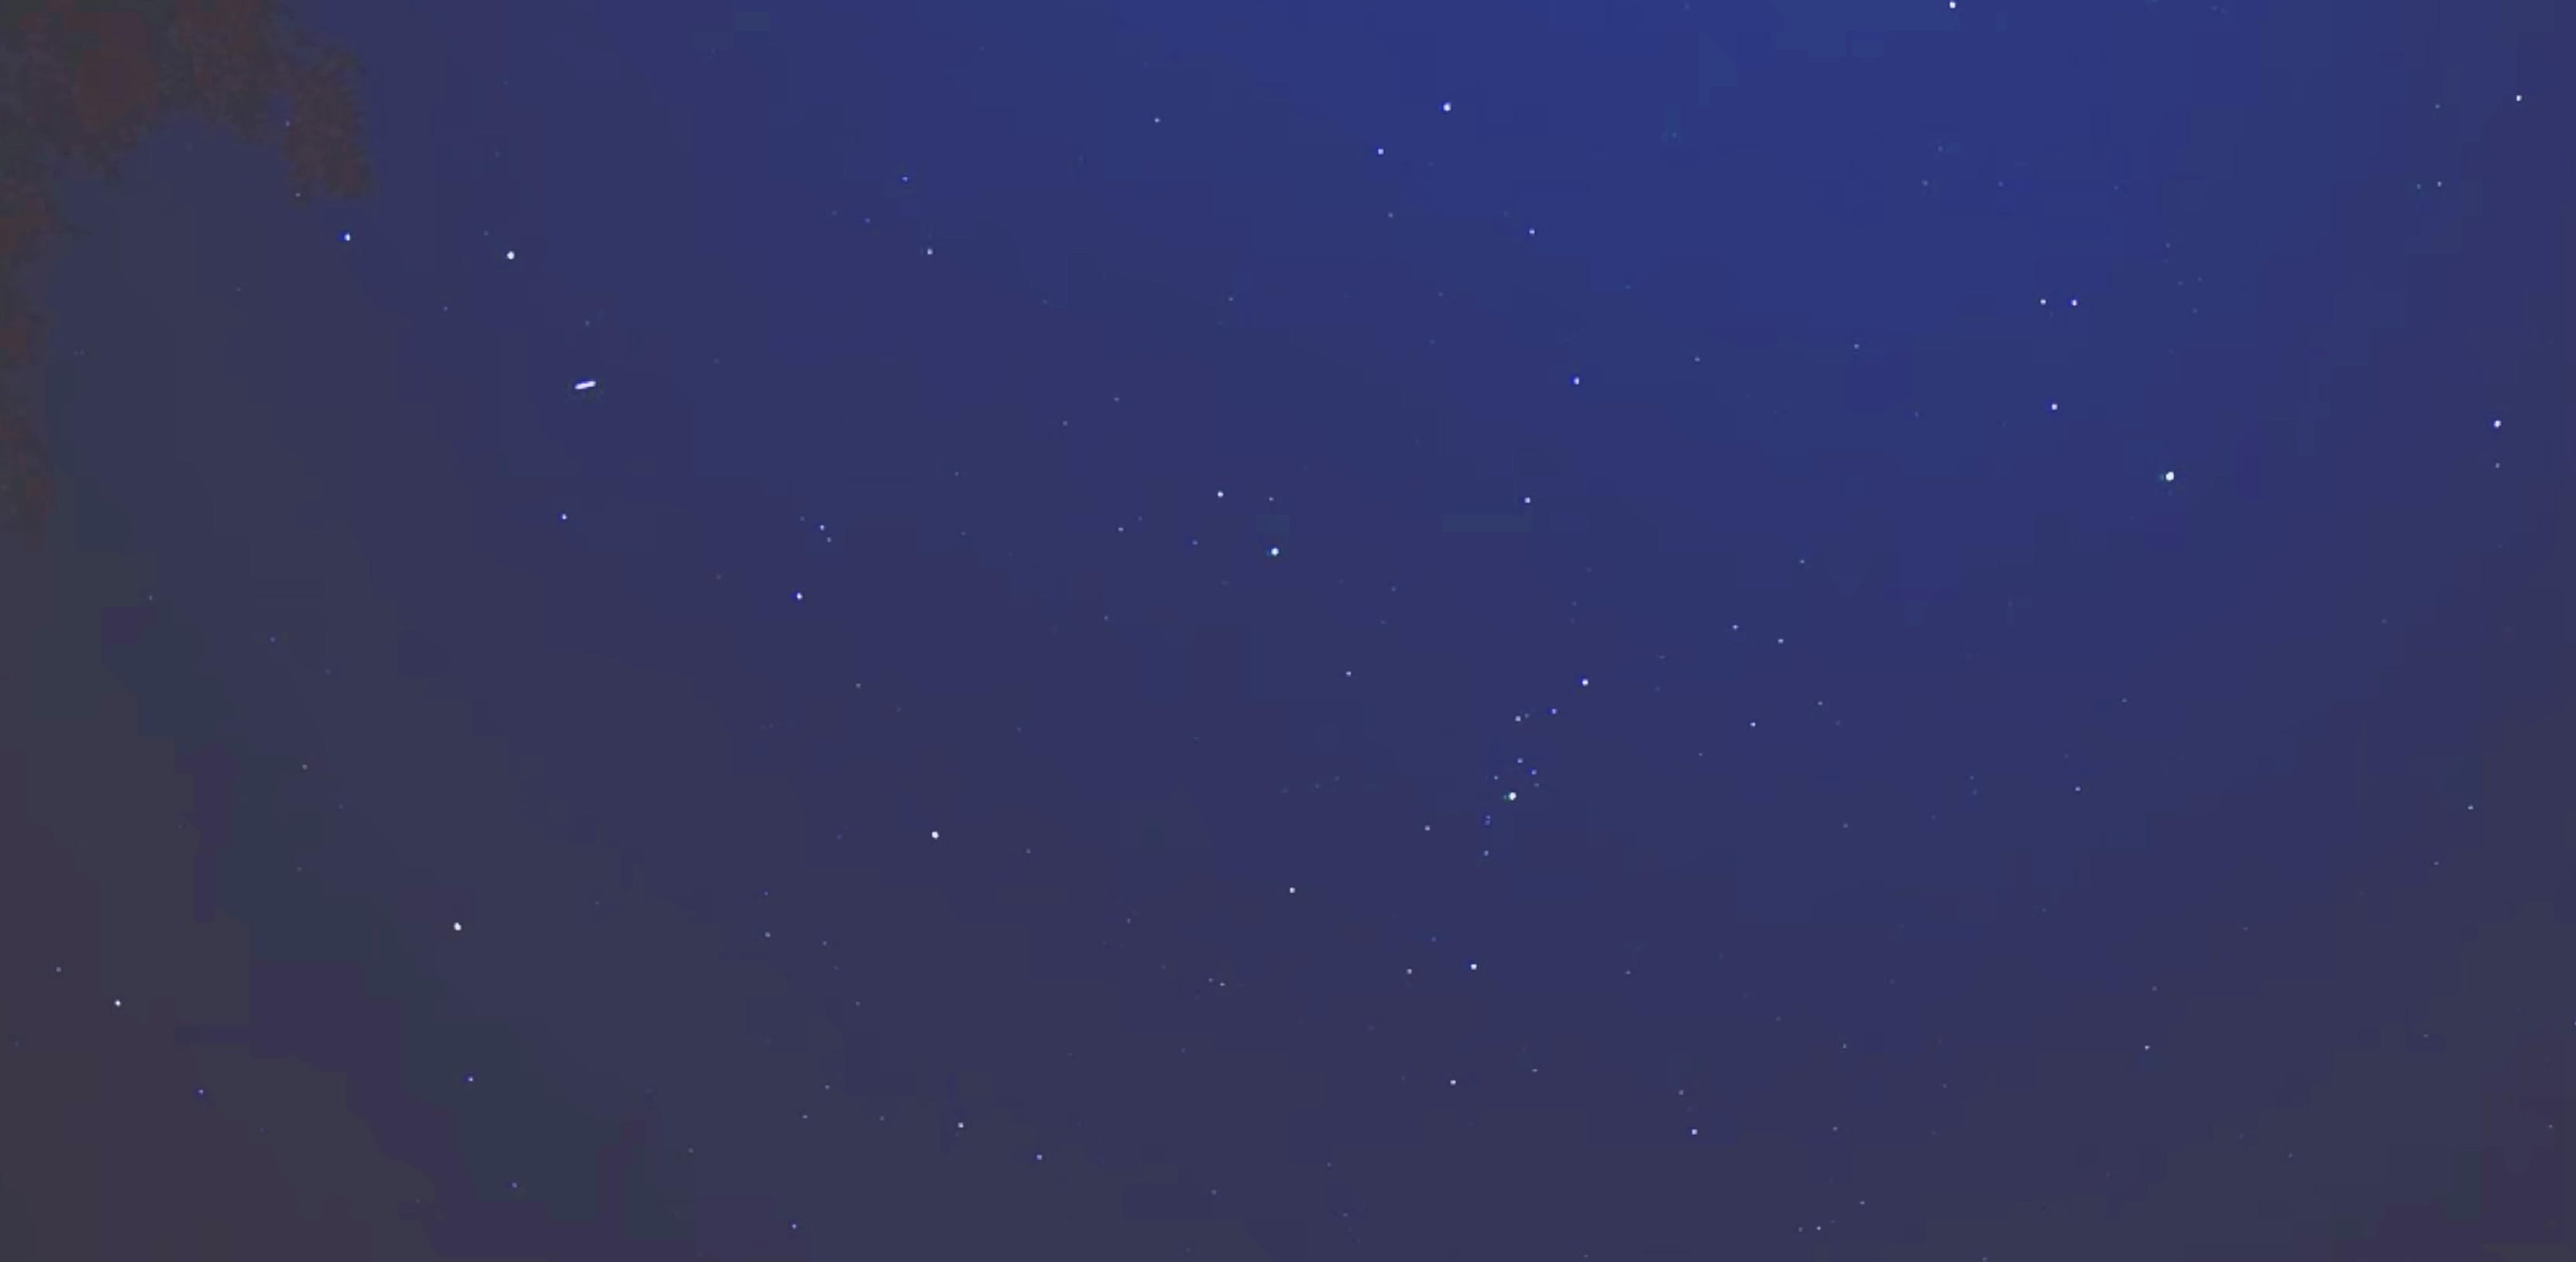meteorite: (549, 365, 623, 401)
